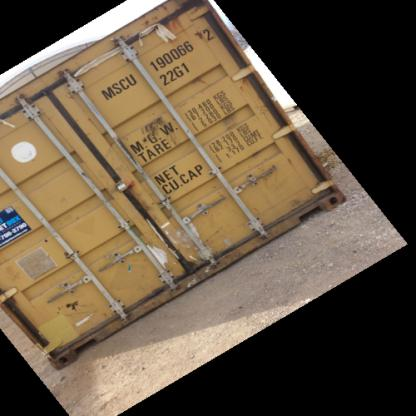Damage: (143, 218, 214, 276), (242, 148, 294, 202), (134, 4, 209, 40), (51, 291, 106, 330), (132, 115, 188, 143), (43, 197, 88, 230), (180, 62, 212, 88), (4, 251, 27, 286), (219, 98, 240, 136), (117, 250, 137, 282)
